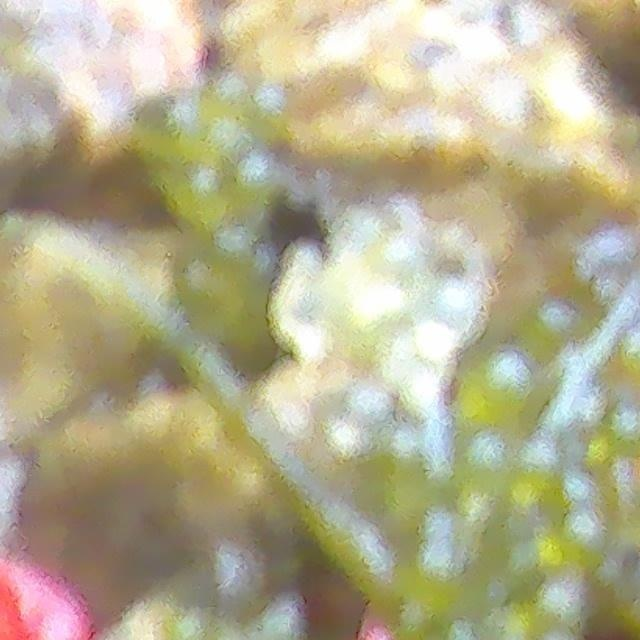SeaGrape: (457, 346, 546, 433), (428, 277, 484, 333), (530, 580, 584, 634), (398, 365, 446, 419), (344, 380, 394, 431), (407, 316, 458, 366), (319, 416, 366, 462), (282, 241, 326, 284), (288, 321, 329, 365)
